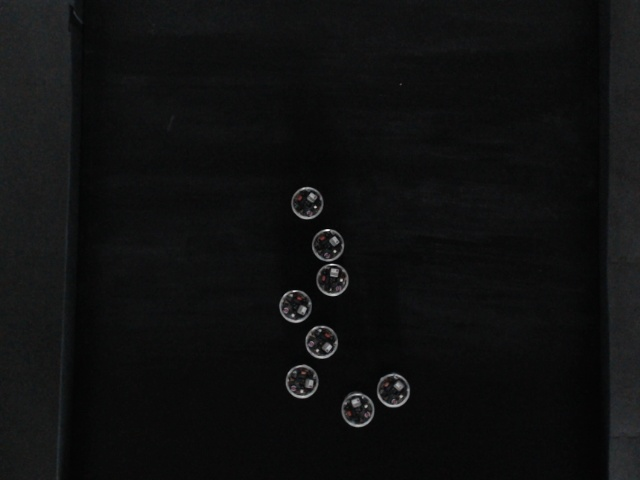epuck_2: (315, 263, 350, 298), (376, 372, 410, 408), (305, 325, 339, 359), (341, 393, 374, 428), (290, 187, 324, 220), (312, 228, 345, 262), (278, 290, 313, 322), (286, 364, 318, 399)
